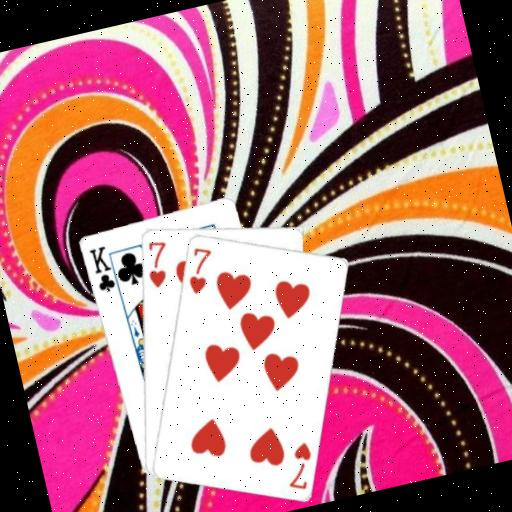7H: (178, 240, 222, 297), (277, 438, 321, 495), (138, 235, 177, 291)
KC: (86, 241, 124, 300)
